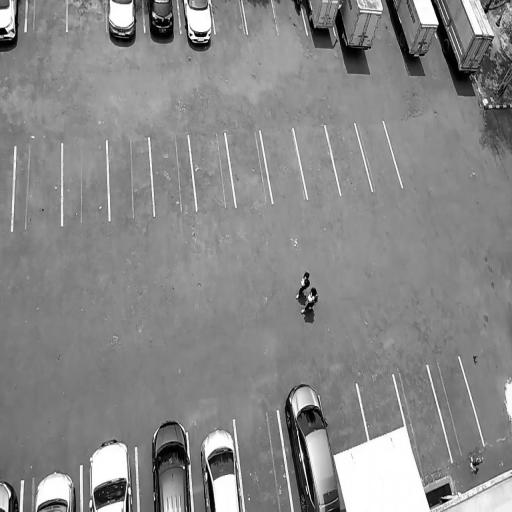Car: (283, 382, 342, 512), (432, 0, 496, 81), (151, 415, 191, 512), (199, 425, 242, 512), (88, 438, 134, 512), (388, 0, 440, 60), (338, 0, 384, 53), (34, 469, 75, 512), (182, 0, 213, 48), (107, 0, 138, 43), (146, 0, 175, 41), (308, 0, 340, 30), (0, 0, 19, 44), (0, 475, 19, 512)
Space Available: (395, 366, 451, 473), (428, 358, 483, 461), (235, 412, 292, 511), (13, 144, 63, 231), (62, 143, 109, 225), (107, 139, 154, 220), (149, 136, 195, 217), (226, 132, 272, 208), (189, 135, 235, 211), (293, 126, 340, 199), (261, 129, 306, 203), (325, 124, 371, 195), (320, 386, 367, 454), (355, 122, 401, 190), (357, 375, 404, 439), (0, 145, 16, 232), (25, 0, 68, 30), (67, 0, 107, 32), (210, 0, 247, 34), (243, 0, 279, 33)
